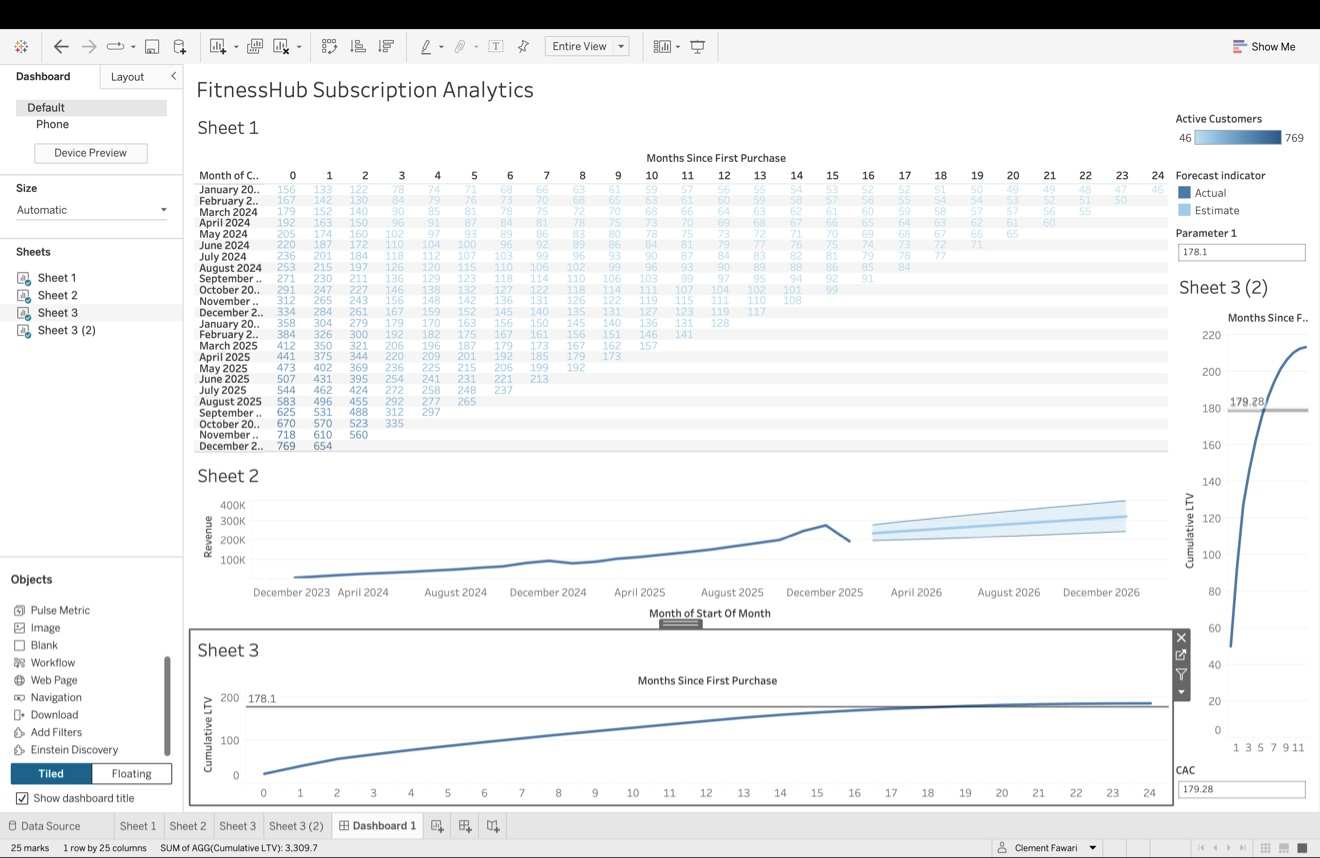

What the dashboard file says about the page in this screenshot:
{"tool":"tableau","page":{"name":"Dashboard 1","canvas":[1000,1000],"units":"permille","ordinal":0},"visuals":[{"type":"title","box":[6.2,9.3,987.7,49]},{"type":"worksheet","title":"Sheet 1","mark":"Automatic","rows":["Calculation_5233803331104771"],"cols":["Calculation_5233803332825092"],"box":[6.2,58.3,864.7,466.1]},{"type":"legend","title":"Sheet 1","param":"[federated.0dek9o90ykgpn60zvz5550ln9tsk].[usr:Calculation_5233803333885957:qk]","box":[870.9,58.3,123,75.8]},{"type":"legend","title":"Sheet 2","param":"[federated.0dek9o90ykgpn60zvz5550ln9tsk].[none:Forecast Indicator:nk]","box":[870.9,134.2,123,77]},{"type":"parameter","param":"[Parameters].[Parameter 5233803342495753]","box":[870.9,211.2,123,60.7]},{"type":"worksheet","title":"Sheet 3 (2)","mark":"Line","rows":["Calculation_5233803340976136"],"cols":["Calculation_5233803332825092"],"box":[870.9,271.9,123,658.1]},{"type":"worksheet","title":"Sheet 2","mark":"Automatic","rows":["Revenue"],"cols":["Calculation_5233803337699334"],"box":[6.2,524.4,864.7,233.1]},{"type":"worksheet","title":"Sheet 3","mark":"Line","rows":["Calculation_5233803340976136"],"cols":["Calculation_5233803332825092"],"box":[6.2,757.5,864.7,233.1]},{"type":"parameter","param":"[Parameters].[Parameter 5233803348426764]","box":[870.9,930,123,60.7]}]}

Visuals, with their boxes on the dashboard's canvas, which has no fixed pixel size, in thousandths of its width and height (x1, y1, x2, y2). These are canvas units, not pixel positions in the 1320x858 screenshot, which may show the page scaled, cropped or inside an application window:
title: 6, 9, 994, 58
"Sheet 1" worksheet: 6, 58, 871, 524
"Sheet 1" legend: 871, 58, 994, 134
"Sheet 2" legend: 871, 134, 994, 211
parameter: 871, 211, 994, 272
"Sheet 3 (2)" worksheet (Line marks): 871, 272, 994, 930
"Sheet 2" worksheet: 6, 524, 871, 758
"Sheet 3" worksheet (Line marks): 6, 758, 871, 991
parameter: 871, 930, 994, 991
